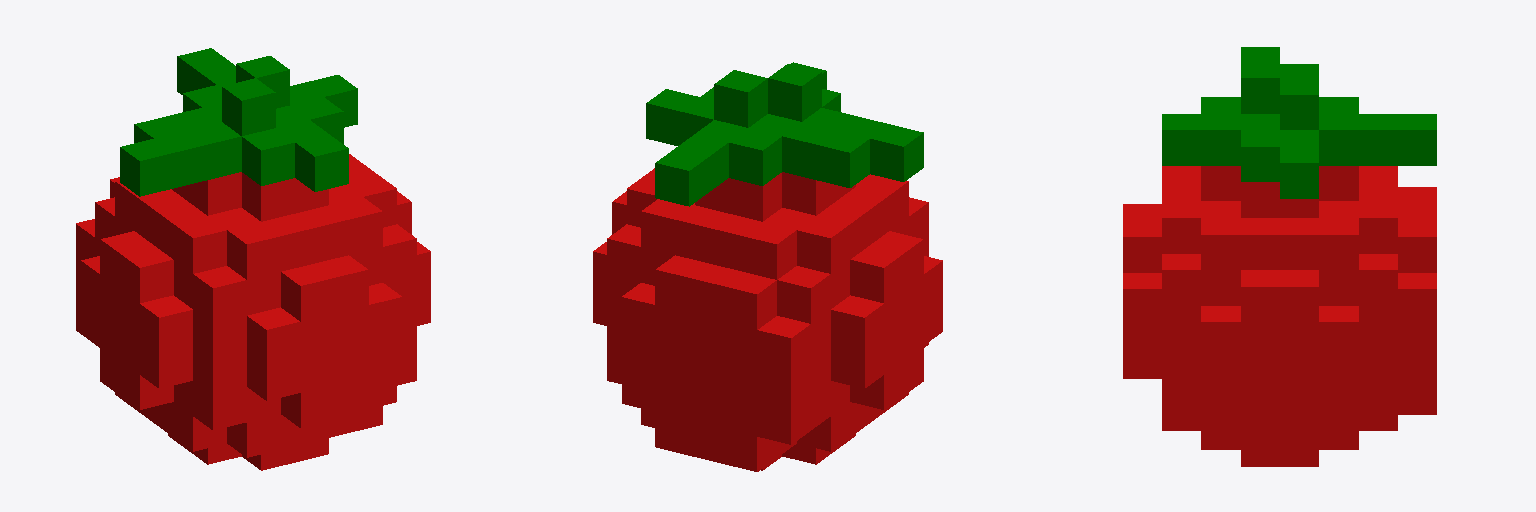
3 views of the same model, side by side, from view 1: azimuth 30°, elevation 25°; view 2: azimuth 150°, elevation 25°; view 3: azimuth 270°, elevation 25° (orthographic).
Parts seen in each view (by area): view 1: object 1; view 2: object 1; view 3: object 1.
Boxes of the visible parts, <box> form: object 1: <box>76,48,430,470</box>; object 1: <box>593,62,942,471</box>; object 1: <box>1123,47,1436,466</box>.
Size of the model in its own units: 0.8 by 1 by 0.8.
1 materials, 1 textured.